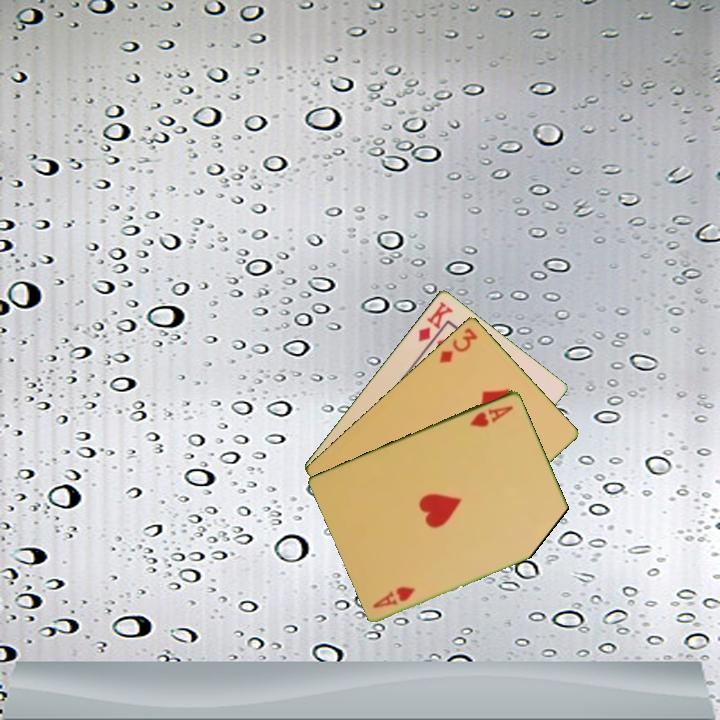3d: (436, 324, 480, 366)
Ah: (467, 401, 516, 430), (369, 582, 418, 611)
Kd: (414, 297, 456, 344)
